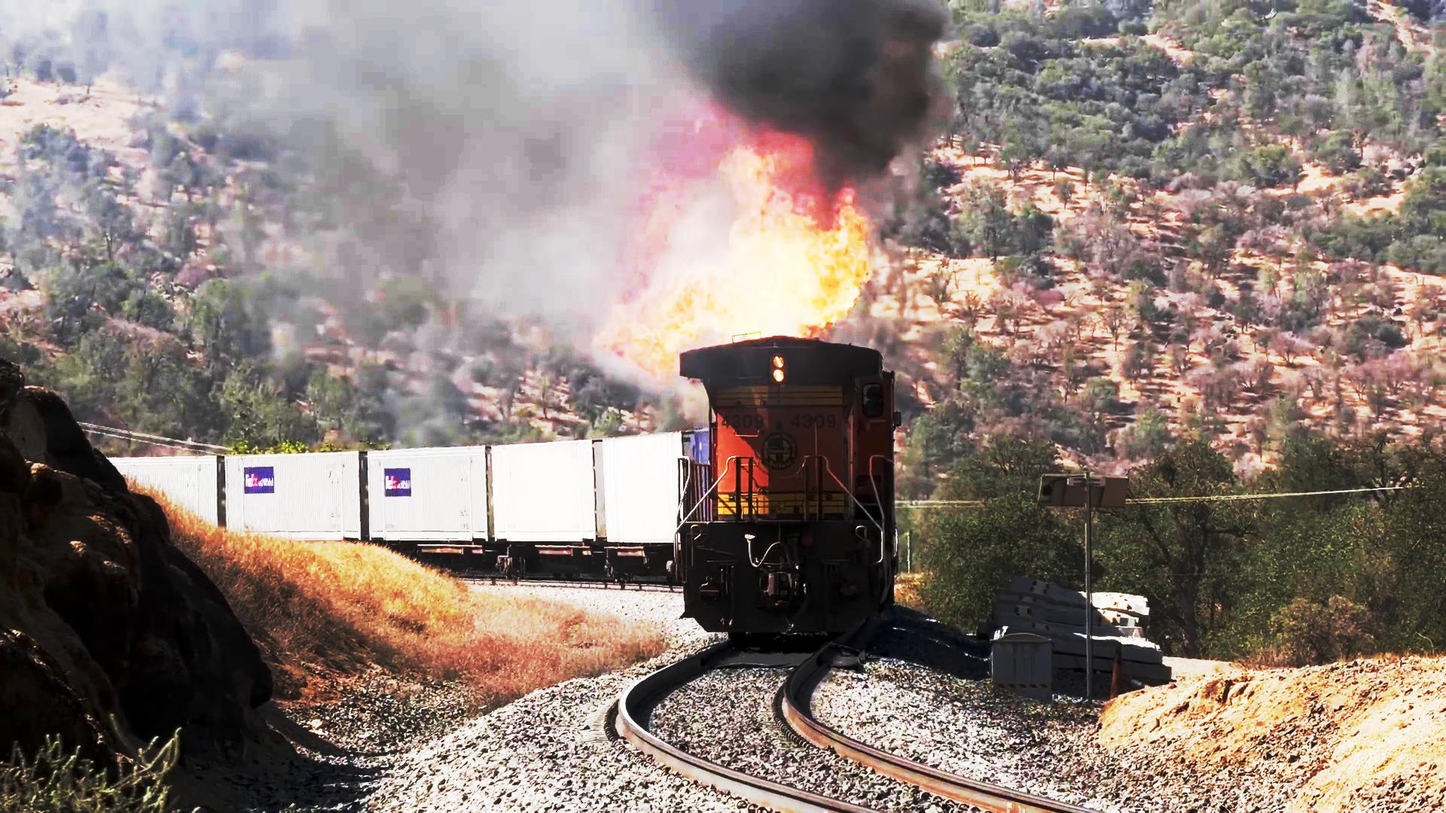fire: (632, 190, 872, 371)
smoke: (605, 0, 914, 162)
